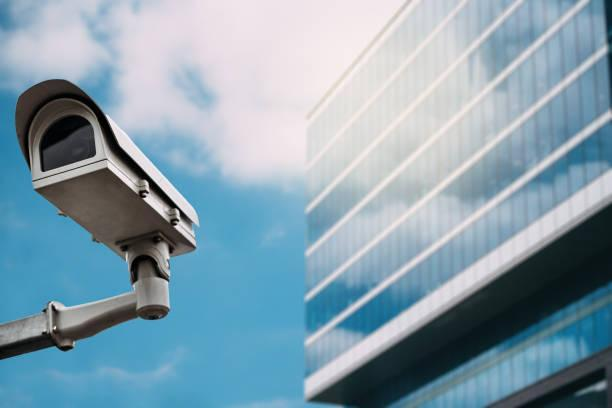camera: (3, 68, 215, 259)
